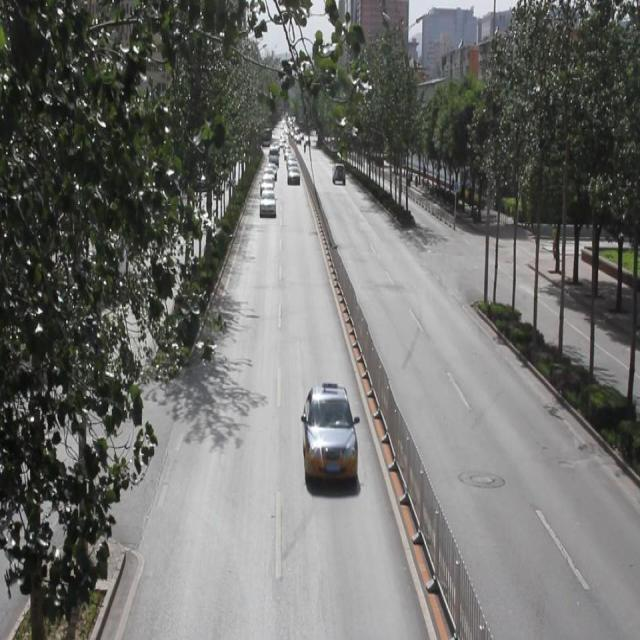car: (299, 383, 365, 495), (262, 183, 281, 224), (282, 162, 306, 191), (259, 173, 277, 210), (331, 162, 350, 188)
